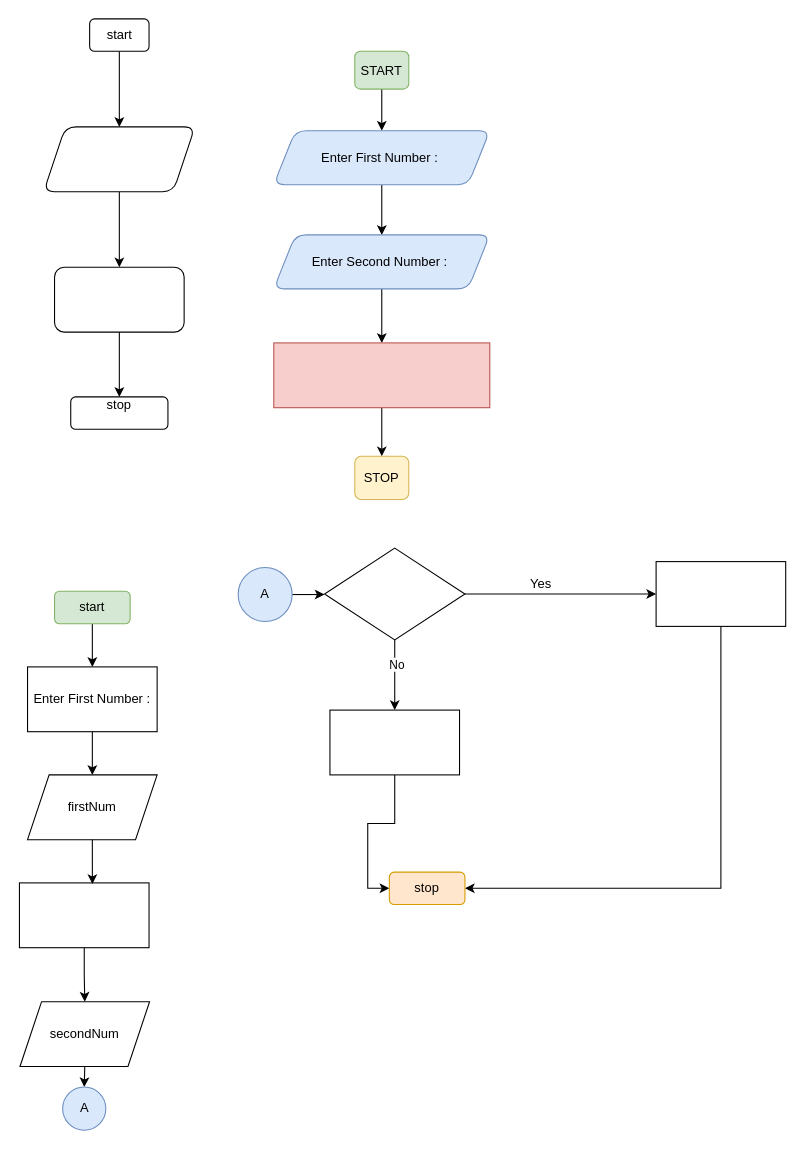
This 805x1149 diagram has some shape labels left out. Each missing label, with the centre of its shape:
"Enter Second Number" belongs at [83,915].
"Print (firstNumber + secondNumber)" belongs at [381,375].
"Print firstNum / secondNum" belongs at [720,593].
"Print the name" belongs at [118,299].
"secondNub > 0" belongs at [394,593].
"secondNum >0" belongs at [394,742].
"What is Your name" belongs at [119,159].
